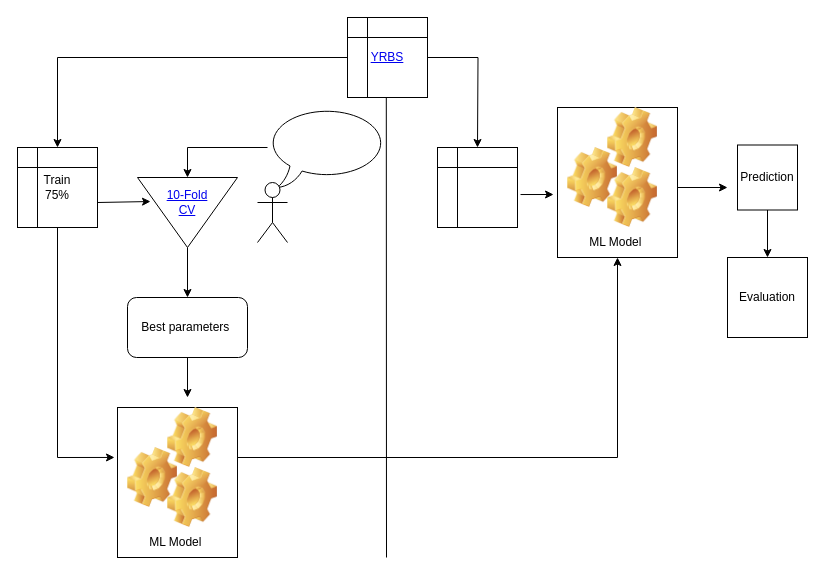
The diagram is 825 pixels wide and 576 high, and some of its shapes have lost their labels. The centre of each missing label's shape, as x and y in pixels:
"Experts" goes at (x=272, y=212).
"Hyperparameters" goes at (x=327, y=147).
"Test 25%" goes at (x=477, y=187).
